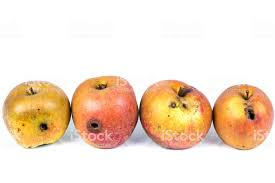damaged_apple: (70, 71, 142, 150), (141, 79, 212, 151), (6, 77, 73, 144), (213, 85, 274, 152)
